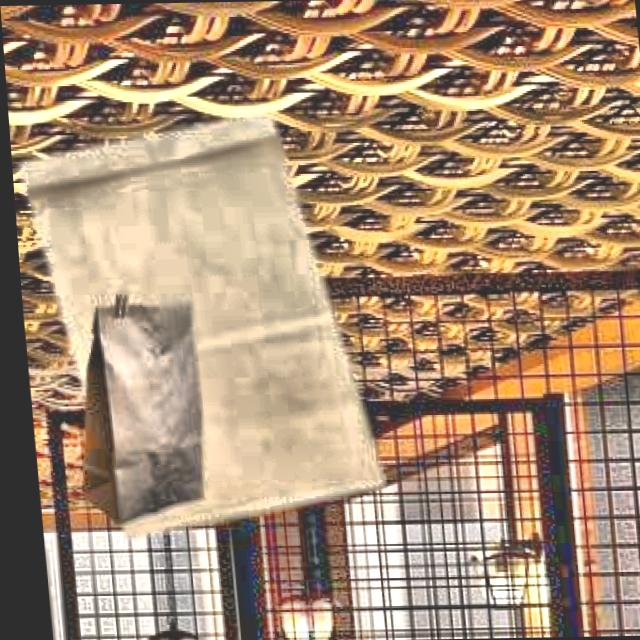Paper-bag: (7, 100, 396, 538), (53, 288, 214, 522)
